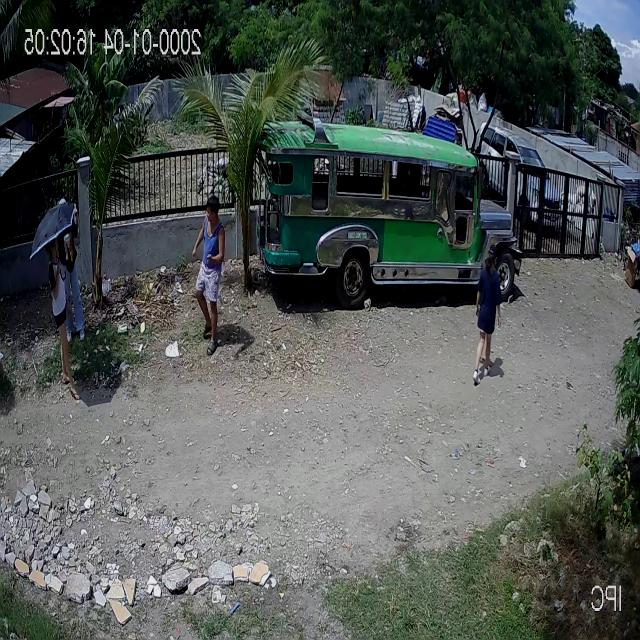standing: (54, 194, 86, 343)
walking: (193, 190, 228, 357), (50, 244, 84, 401), (473, 242, 497, 389)
